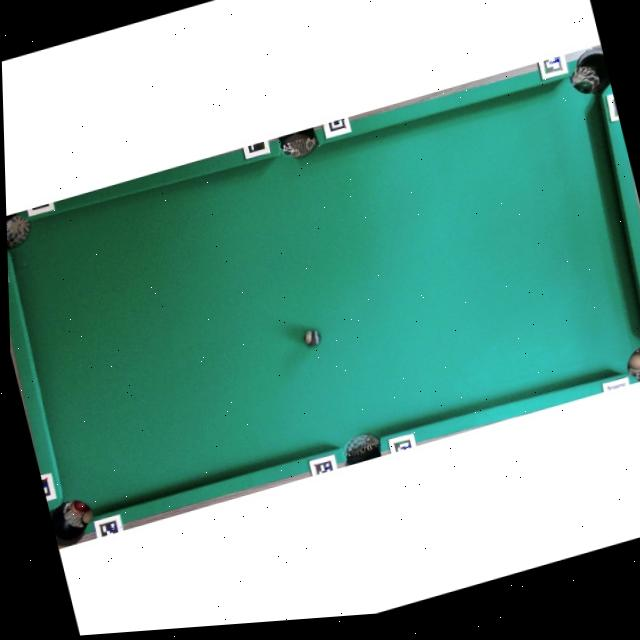other: (301, 326, 321, 348)
